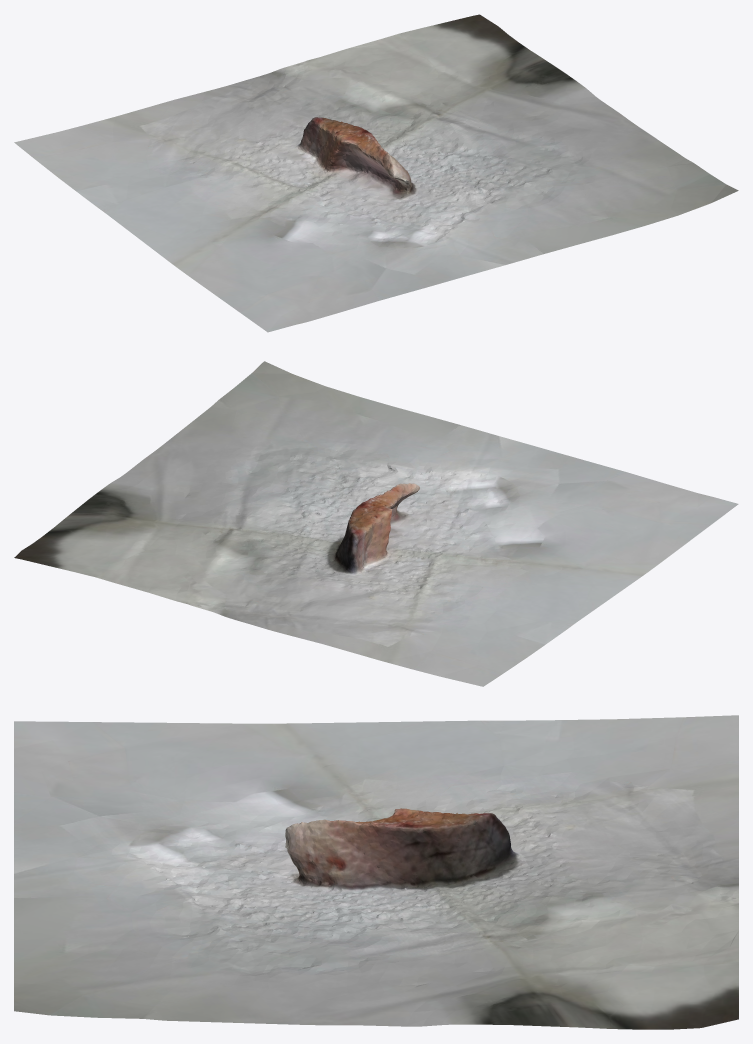
File: fish.glb
3 renders of one model, top to bottom at view 1: azimuth 30°, elevation 25°; view 2: azimuth 150°, elevation 25°; view 3: azimuth 270°, elevation 25°, orthographic. The views are drawn at different scales.
Size of the model in its own units: 2.03 by 0.184 by 1.89.
1 material, 1 textured.
